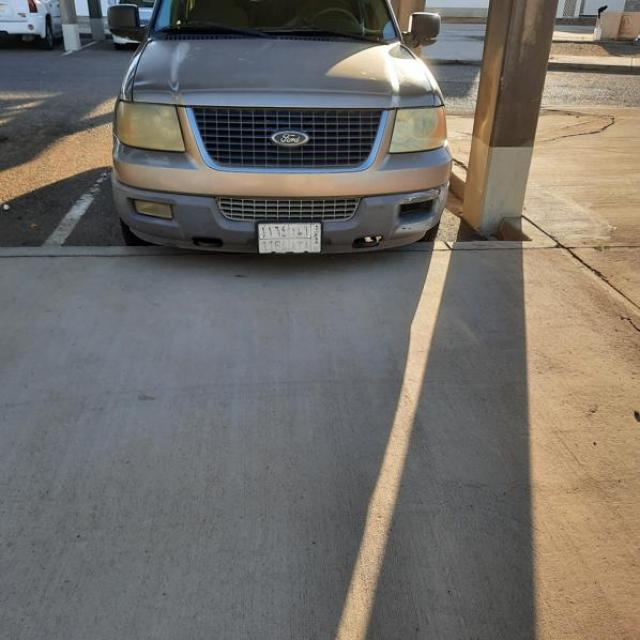license_plate: (259, 224, 321, 252)
